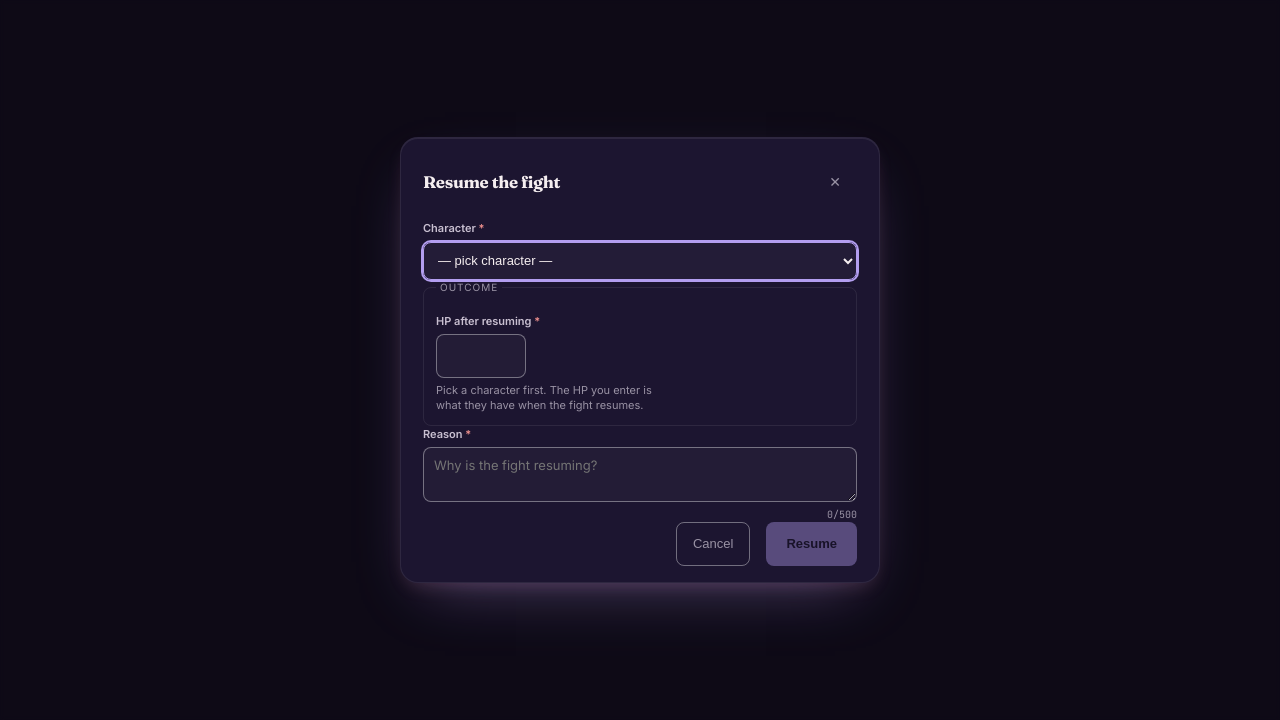
held with a character standing › a fallen pick in the same list still reads as a revive (its own label)
Select "Kestrel (fallen, max 34)" in the dropdown labelled "Character *": (640, 261) x1=423 y1=242 x2=857 y2=280
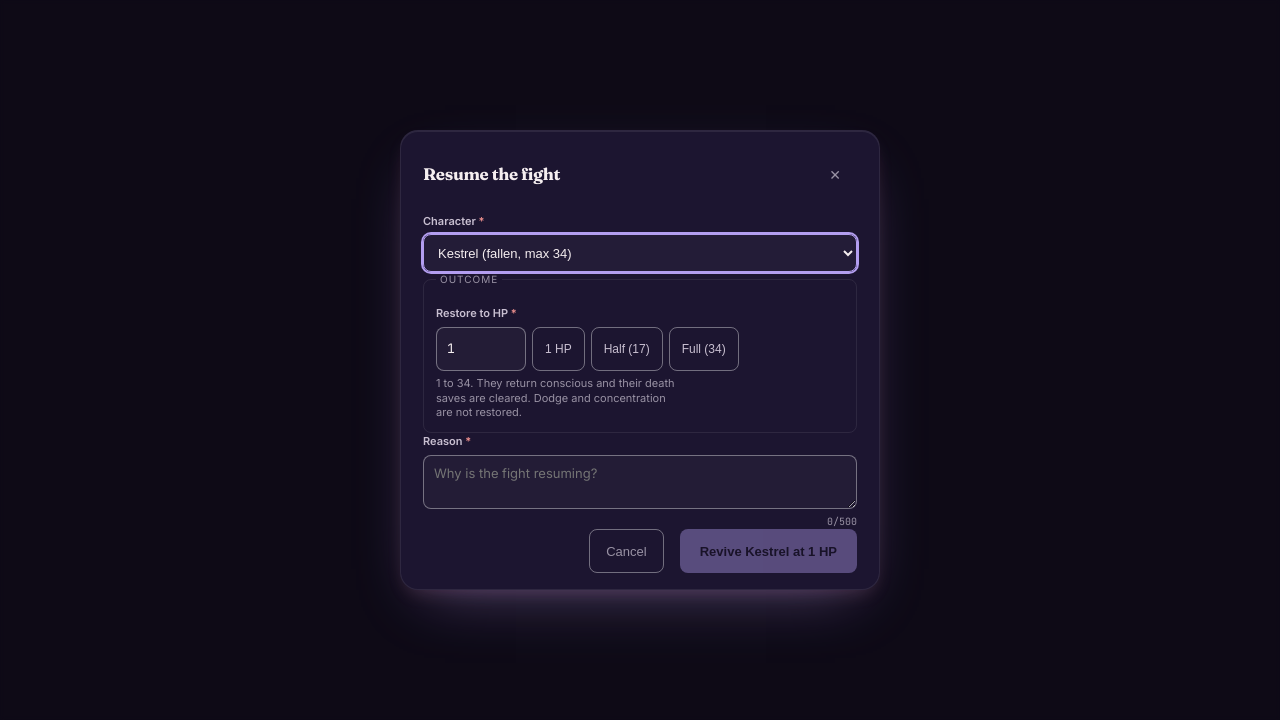
Expected: the number field labelled "Restore to HP *" is shown, x1=436 y1=327 x2=526 y2=371
Expected: the submit button reads "Revive Kestrel at 1 HP", x1=680 y1=529 x2=857 y2=573
